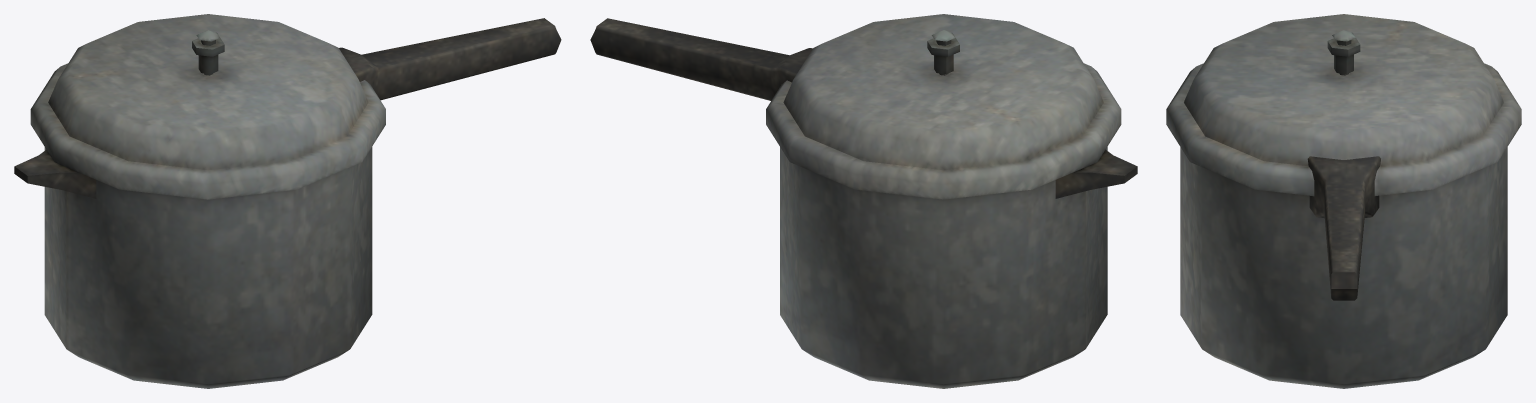
The model's file is PressureCooker.FBX.
3 views of the same model, side by side, from view 1: azimuth 30°, elevation 25°; view 2: azimuth 150°, elevation 25°; view 3: azimuth 270°, elevation 25° (orthographic).
Parts seen in each view (by area): view 1: PressureCooker; view 2: PressureCooker; view 3: PressureCooker.
Part boxes in pixels (left/top/right/bottom): PressureCooker: left=14, top=14, right=561, bottom=388; PressureCooker: left=590, top=14, right=1137, bottom=388; PressureCooker: left=1166, top=14, right=1521, bottom=388.
Size of the model in its own units: 77.78 by 41.14 by 44.82.
